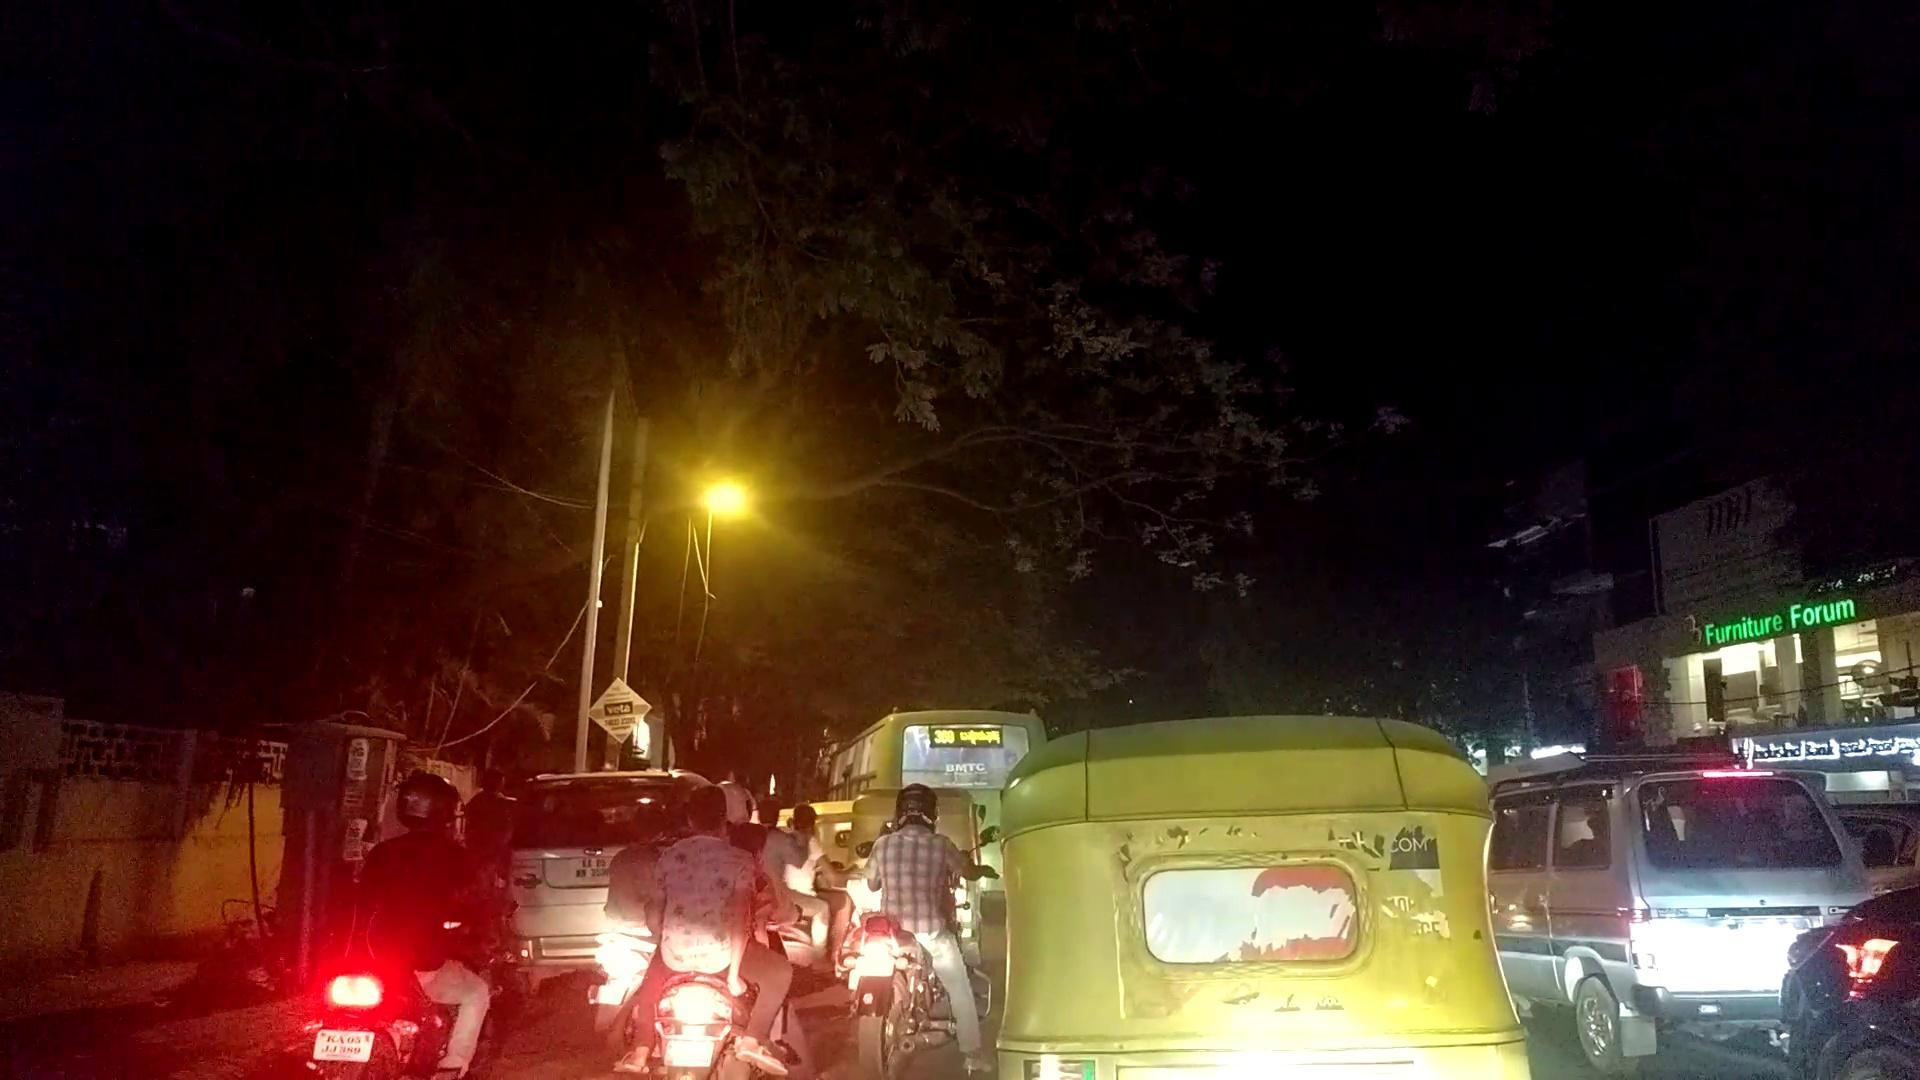on: (40, 123, 1920, 1080)
